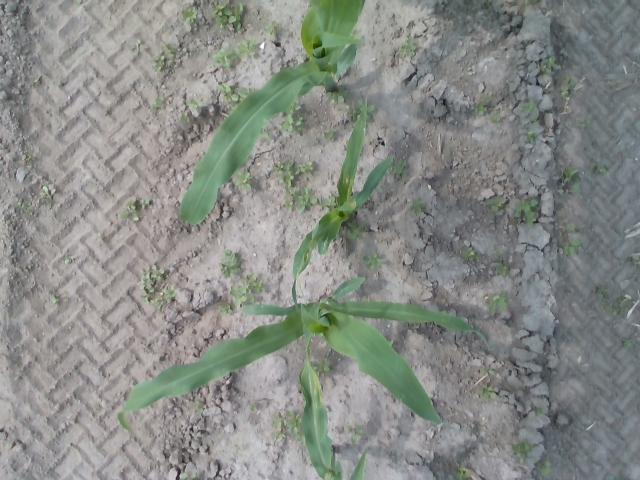Maize: (119, 277, 492, 428), (178, 0, 366, 230), (292, 107, 394, 305), (298, 336, 372, 480)
Weeds: (272, 410, 300, 445), (215, 1, 246, 28), (274, 157, 295, 188), (234, 38, 260, 63), (518, 194, 539, 224), (220, 249, 241, 277), (488, 294, 510, 318), (118, 198, 138, 221), (364, 252, 388, 271), (213, 52, 237, 70), (230, 284, 252, 303), (140, 274, 155, 301), (606, 298, 628, 316), (300, 187, 316, 211), (236, 172, 256, 190), (515, 438, 533, 458), (282, 118, 304, 134), (247, 276, 266, 294), (544, 56, 562, 74), (182, 6, 200, 24), (159, 288, 175, 308), (486, 195, 506, 211), (403, 36, 417, 58), (562, 239, 580, 256), (326, 90, 349, 103), (564, 167, 578, 188), (482, 384, 499, 401), (452, 464, 471, 479), (409, 198, 426, 214), (561, 78, 576, 96), (394, 160, 409, 178), (186, 95, 204, 110), (161, 45, 177, 60), (536, 459, 552, 474), (227, 88, 244, 102), (592, 160, 607, 175), (218, 78, 232, 94), (151, 266, 165, 282), (348, 225, 364, 239), (296, 164, 316, 175), (128, 40, 146, 52), (286, 188, 296, 209), (152, 59, 167, 73), (40, 188, 57, 200), (316, 360, 330, 374), (150, 100, 166, 112), (473, 103, 488, 115), (465, 248, 476, 264), (62, 253, 76, 265), (594, 285, 608, 297), (325, 126, 337, 140), (264, 20, 278, 32), (526, 126, 536, 142), (497, 262, 508, 276), (348, 426, 360, 438), (220, 304, 234, 314), (528, 101, 538, 115), (322, 198, 336, 206), (181, 113, 192, 123), (580, 118, 591, 128), (494, 248, 504, 258), (484, 367, 495, 376), (141, 199, 151, 208), (566, 223, 576, 232), (96, 234, 104, 244), (534, 407, 544, 415), (51, 294, 60, 302), (22, 200, 32, 207), (622, 337, 629, 347), (493, 116, 502, 122)
